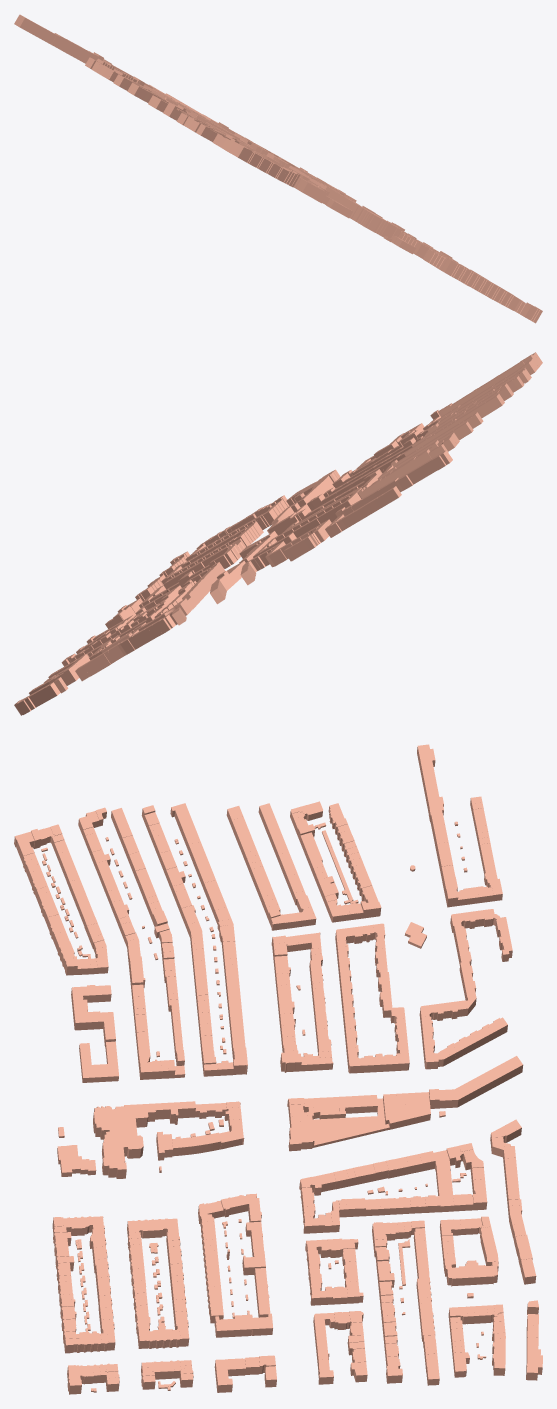
3 views of the same model, one above another, from view 1: azimuth 30°, elevation 25°; view 2: azimuth 150°, elevation 25°; view 3: azimuth 270°, elevation 25° (orthographic). The views are drawn at different scales.
Size of the model in its own units: 559 by 413 by 488.
